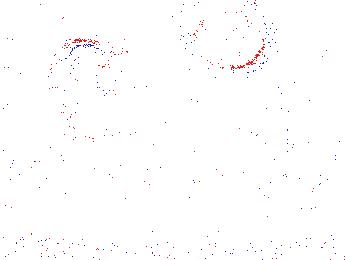moon jellyfish: (47, 38, 142, 139), (162, 1, 232, 110), (191, 1, 274, 75), (234, 96, 314, 157), (1, 2, 77, 57), (101, 51, 158, 93)
